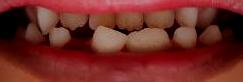Hypodontia: (66, 27, 91, 49)
